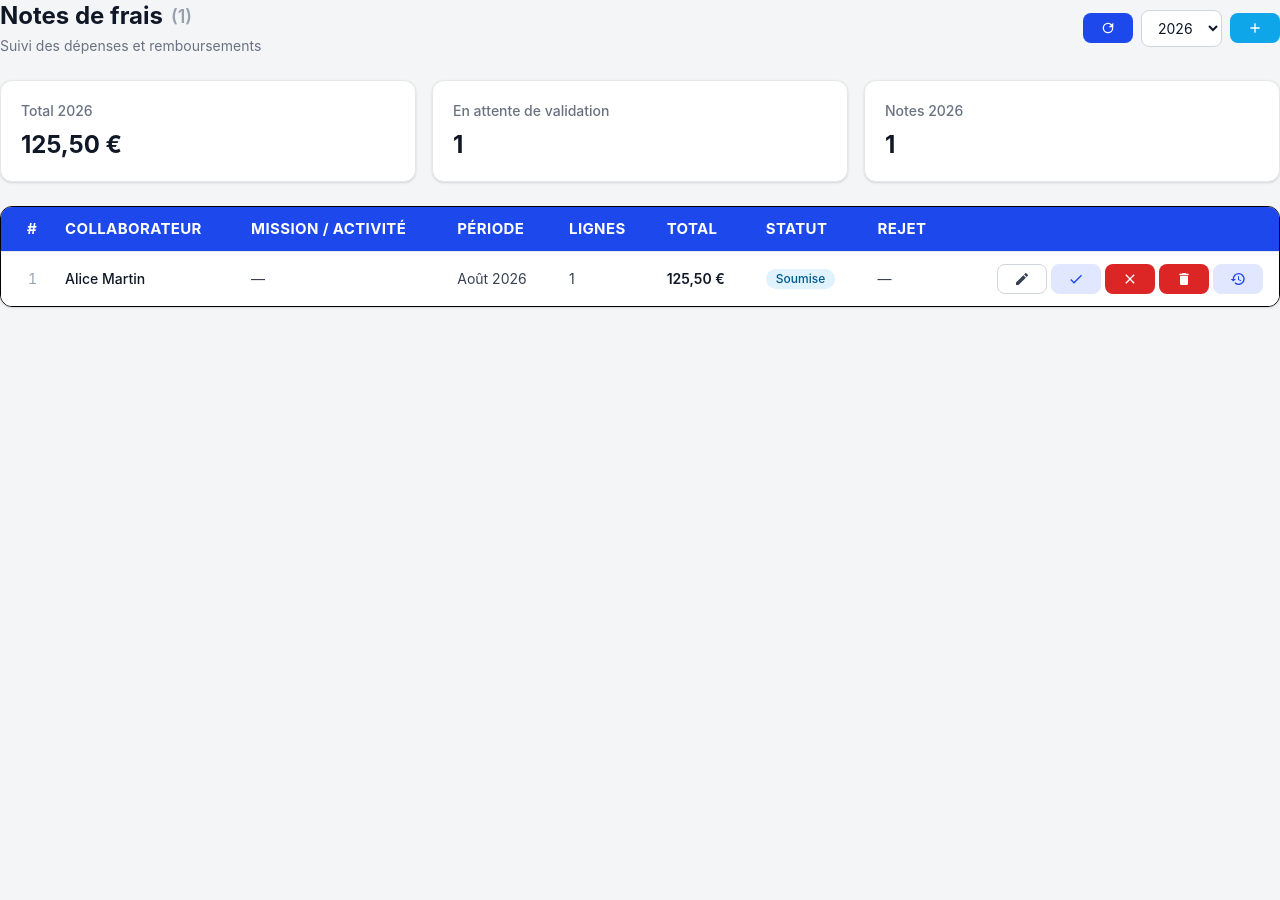
Test: NoteFraisList › permet au manager de modifier une note soumise
expect the button named "Modifier" is shown: met, box [997,264,1047,294]
What coordinates should you click on to do the following:
click the text "Alice Martin"
I would click on:
 (105, 278)
Its box is [1,252,1279,306].
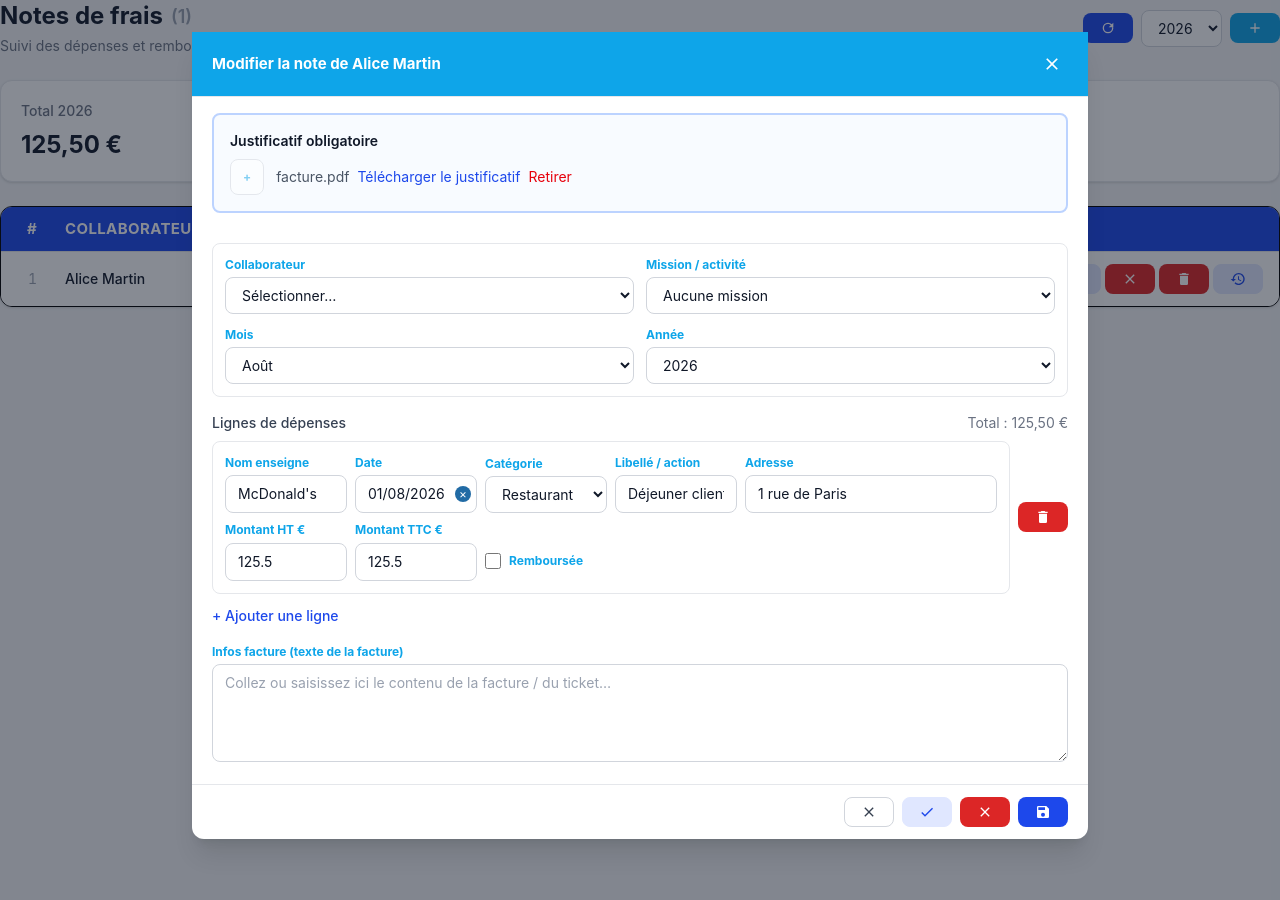
expect the button named "Valider" is shown: met, box [902,797,952,827]
expect the button named "Rejeter" is shown: met, box [960,797,1010,827]
expect the button named "Enregistrer" is enabled: met, box [1018,797,1068,827]
